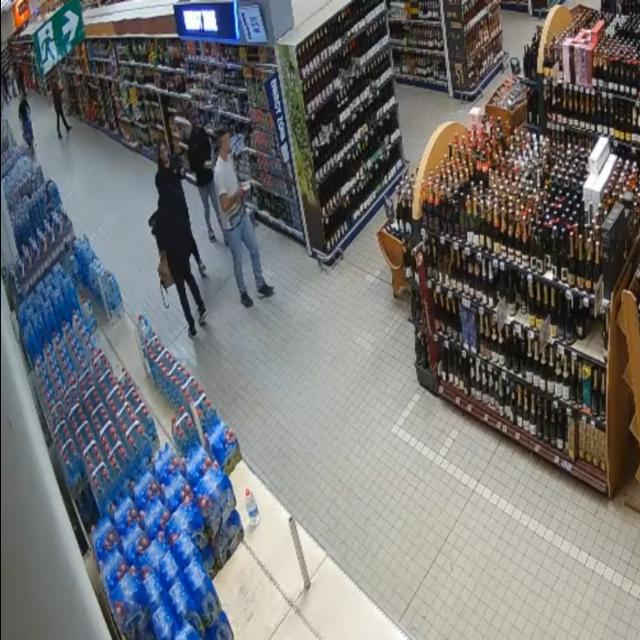bags: (158, 252, 174, 289)
hands: (235, 185, 246, 200), (204, 160, 213, 169), (180, 167, 186, 178)
person: (215, 128, 273, 308), (153, 185, 206, 337), (188, 117, 219, 242), (156, 143, 190, 231)
